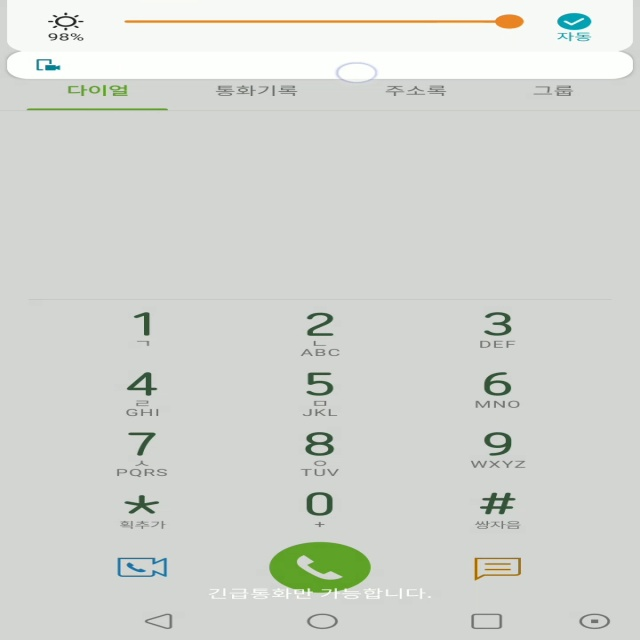Cursor: (335, 62, 379, 84)
